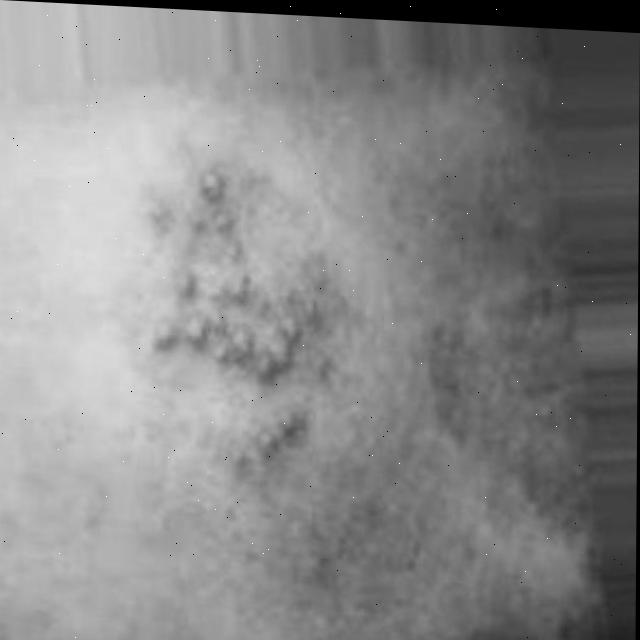Shingles: (151, 164, 354, 474)
